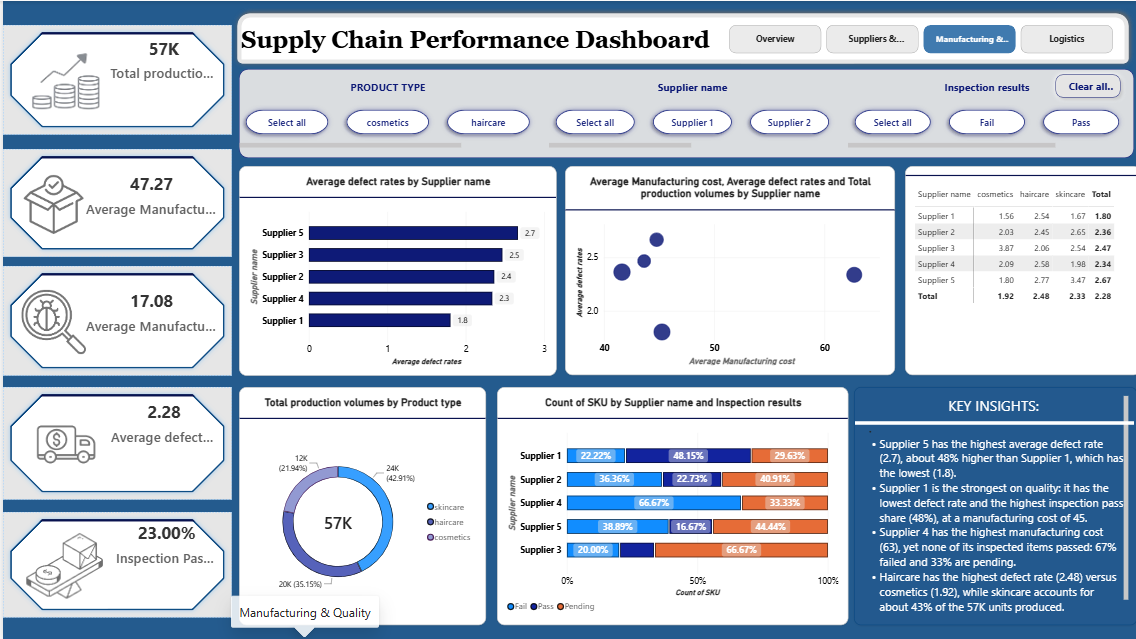

Layout of this report page (visuals, bound fields, positions):
{"tool":"powerbi","page":{"name":"Manufacturing & Quality","canvas":[1920,1080],"ordinal":2},"visuals":[{"type":"cardVisual","fields":{"Data":["Supply Chain.Total production volumes"]},"box":[0,40.5,386.4,185.6],"z":0},{"type":"cardVisual","fields":{"Data":["Supply Chain.Average Manufacturing cost"]},"box":[0,249.8,386.4,182.2],"z":1000},{"type":"cardVisual","fields":{"Data":["Supply Chain.Average defect rates"]},"box":[0,651.4,386.4,190.7],"z":2000},{"type":"cardVisual","fields":{"Data":["Supply Chain.Inspection Pass Rate"]},"box":[0,862.3,386.4,178.9],"z":3000},{"type":"cardVisual","fields":{"Data":["Supply Chain.Average Manufacturing Lead time"]},"box":[0,447.2,386.4,185.6],"z":4000},{"type":"advancedSlicerVisual","fields":{"Values":["Supply Chain.Supplier name"]},"box":[1243.7,21.9,194.1,82.7],"z":5000},{"type":"shape","box":[386.4,11.8,1522.1,102.9],"z":6000},{"type":"pageNavigator","box":[1225.1,40.5,651.4,48.9],"z":7000},{"type":"shape","box":[398.2,114.8,1510.3,150.2],"z":8000},{"type":"advancedSlicerVisual","title":"PRODUCT TYPE","fields":{"Values":["product_table (2).Product type"]},"box":[398.2,133.3,502.9,116.4],"z":9000},{"type":"advancedSlicerVisual","fields":{"Values":["Supply Chain.Supplier name"]},"box":[921.4,133.3,484.3,116.4],"z":10000},{"type":"advancedSlicerVisual","fields":{"Values":["Supply Chain.Inspection results"]},"box":[1425.9,133.3,469.1,116.4],"z":11000},{"type":"actionButton","box":[1766.8,114.8,128.2,57.4],"z":12000},{"type":"textbox","box":[1436.7,651.7,478.3,401.7],"z":13000},{"type":"shape","box":[1437.8,561.9,470.8,300.4],"z":14000},{"type":"clusteredBarChart","fields":{"Category":["Supply Chain.Supplier name"],"Y":["Supply Chain.Average defect rates"]},"box":[398,278,536,354],"z":15000},{"type":"hundredPercentStackedBarChart","fields":{"Category":["Supply Chain.Supplier name"],"Series":["Supply Chain.Inspection results"],"Y":["CountNonNull(product_table (2).SKU)"]},"box":[833.6,651.4,593.3,401.7],"z":19001},{"type":"scatterChart","fields":{"Category":["Supply Chain.Supplier name"],"Size":["Supply Chain.Total production volumes"],"X":["Supply Chain.Average Manufacturing cost"],"Y":["Supply Chain.Average defect rates"]},"box":[948.3,278.3,556.7,353.3],"z":19002},{"type":"donutChart","fields":{"Category":["product_table (2).Product type"],"Y":["Supply Chain.Total production volumes"]},"box":[398.3,651.7,416.7,401.7],"z":19003},{"type":"pivotTable","fields":{"Columns":["product_table (2).Product type"],"Rows":["Supply Chain.Supplier name"],"Values":["Supply Chain.Average defect rates"]},"box":[1521.7,278.3,398.3,353.3],"z":19004}]}

Visuals, with their boxes in screenshot pixels (x1, y1, x2, y2), scaled from the page's 1920x1080 canvas onto the 1136x639 screenshot:
cardVisual - Supply Chain.Total production volumes: box(0, 24, 229, 134)
cardVisual - Supply Chain.Average Manufacturing cost: box(0, 148, 229, 256)
cardVisual - Supply Chain.Average defect rates: box(0, 385, 229, 498)
cardVisual - Supply Chain.Inspection Pass Rate: box(0, 510, 229, 616)
cardVisual - Supply Chain.Average Manufacturing Lead time: box(0, 265, 229, 374)
advancedSlicerVisual - Supply Chain.Supplier name: box(736, 13, 851, 62)
shape: box(229, 7, 1129, 68)
pageNavigator: box(725, 24, 1110, 53)
shape: box(236, 68, 1129, 157)
"PRODUCT TYPE" advancedSlicerVisual: box(236, 79, 533, 148)
advancedSlicerVisual - Supply Chain.Supplier name: box(545, 79, 832, 148)
advancedSlicerVisual - Supply Chain.Inspection results: box(844, 79, 1121, 148)
actionButton: box(1045, 68, 1121, 102)
textbox: box(850, 386, 1133, 623)
shape: box(851, 332, 1129, 510)
clusteredBarChart - Supply Chain.Supplier name x Supply Chain.Average defect rates: box(235, 164, 553, 374)
hundredPercentStackedBarChart - Supply Chain.Supplier name x Supply Chain.Inspection results: box(493, 385, 844, 623)
scatterChart - Supply Chain.Supplier name x Supply Chain.Total production volumes: box(561, 165, 890, 374)
donutChart - product_table (2).Product type x Supply Chain.Total production volumes: box(236, 386, 482, 623)
pivotTable - product_table (2).Product type x Supply Chain.Supplier name: box(900, 165, 1135, 374)
